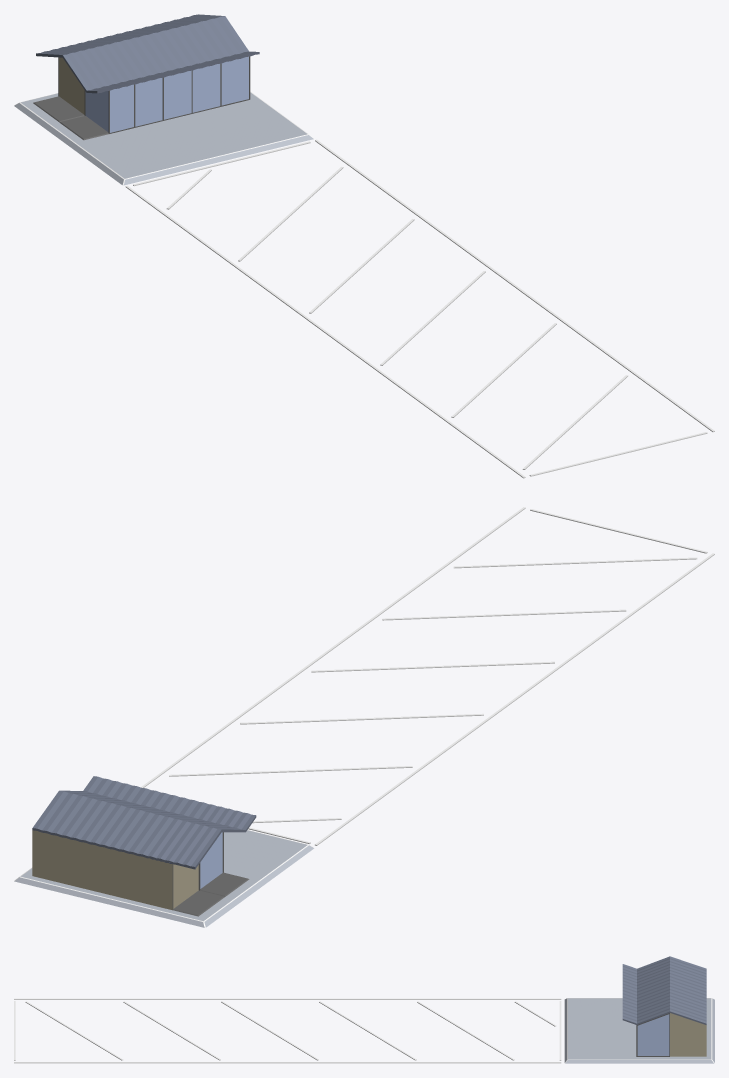
Rendered from Car_Garage.fbx.
3 renders of one model, top to bottom at view 1: azimuth 30°, elevation 25°; view 2: azimuth 150°, elevation 25°; view 3: azimuth 270°, elevation 25°, orthographic. The views are drawn at different scales.
Parts seen in each view (by area): view 1: Cube; view 2: Cube; view 3: Cube.
Boxes of the visible parts, x1=… form: Cube: x1=14, y1=14, x2=714, y2=478; Cube: x1=14, y1=507, x2=714, y2=927; Cube: x1=14, y1=956, x2=714, y2=1063.
Size of the model in its own units: 2190 by 770 by 10076.
